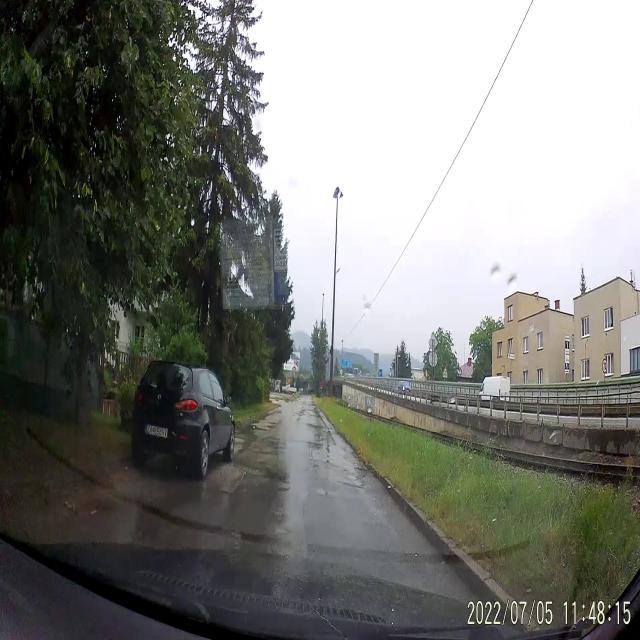Pothole: (309, 438, 341, 471), (346, 460, 372, 492), (298, 407, 326, 430)
